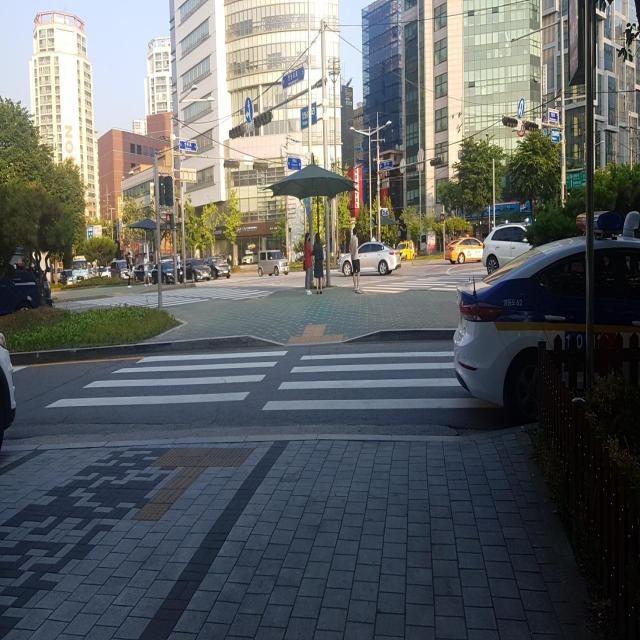횡단보도: (44, 348, 504, 412), (60, 274, 256, 317), (367, 272, 492, 303)
